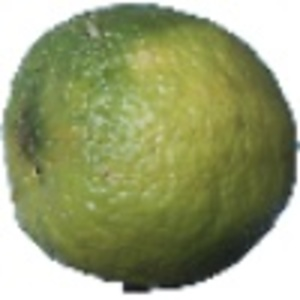limão: (1, 1, 300, 292)
